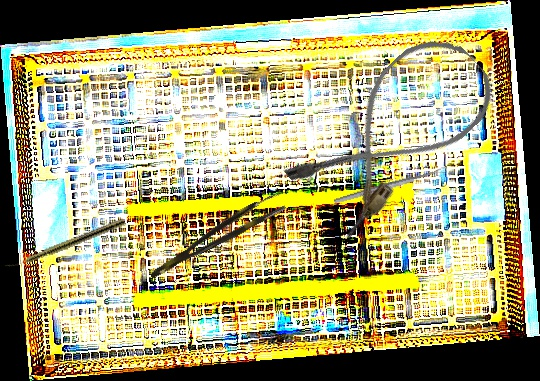Cannula: (279, 20, 508, 243)
Handpiece: (4, 216, 127, 273)
Surgical Spoon: (333, 166, 448, 205)
Tissue Forceps: (143, 190, 287, 281)
